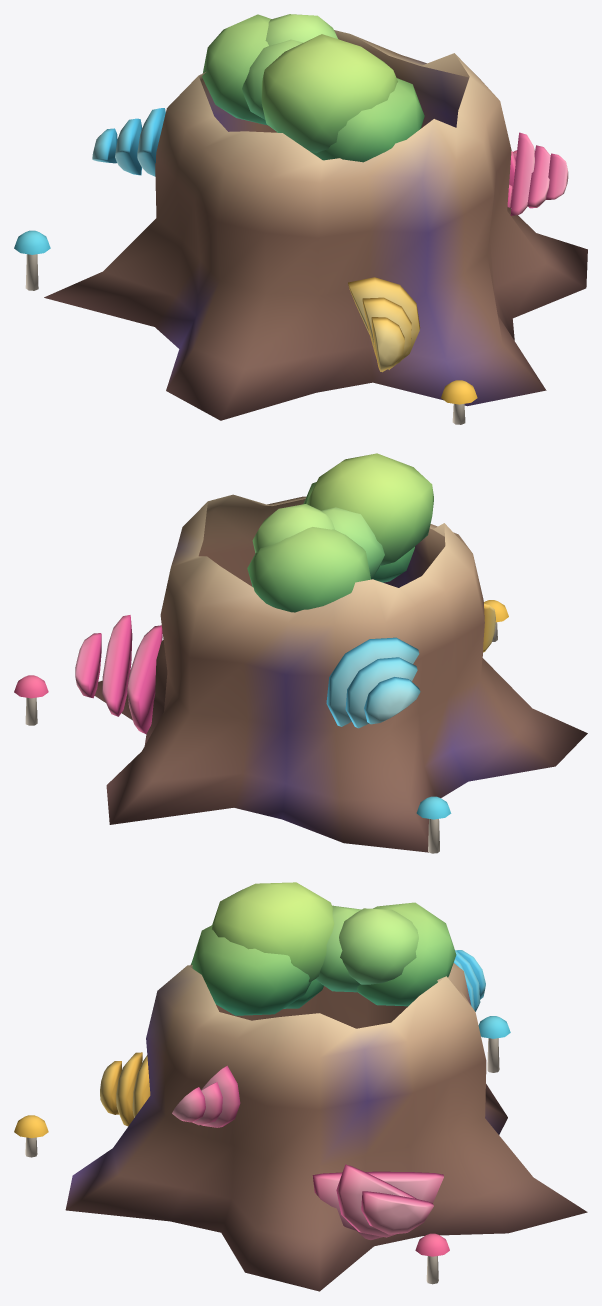
Rendered from verdant_log_stump_shrooms.glb.
3 renders of one model, top to bottom at view 1: azimuth 30°, elevation 25°; view 2: azimuth 150°, elevation 25°; view 3: azimuth 270°, elevation 25°, orthographic. The views are drawn at different scales.
Visible parts, largest first — view 1: verdant_log_stump_shrooms; view 2: verdant_log_stump_shrooms; view 3: verdant_log_stump_shrooms.
Boxes of the visible parts, x1,y1,x2,y2 form: verdant_log_stump_shrooms: (14, 14, 587, 424); verdant_log_stump_shrooms: (14, 453, 587, 853); verdant_log_stump_shrooms: (14, 882, 587, 1291).
Size of the model in its own units: 2.12 by 1.21 by 2.27.
